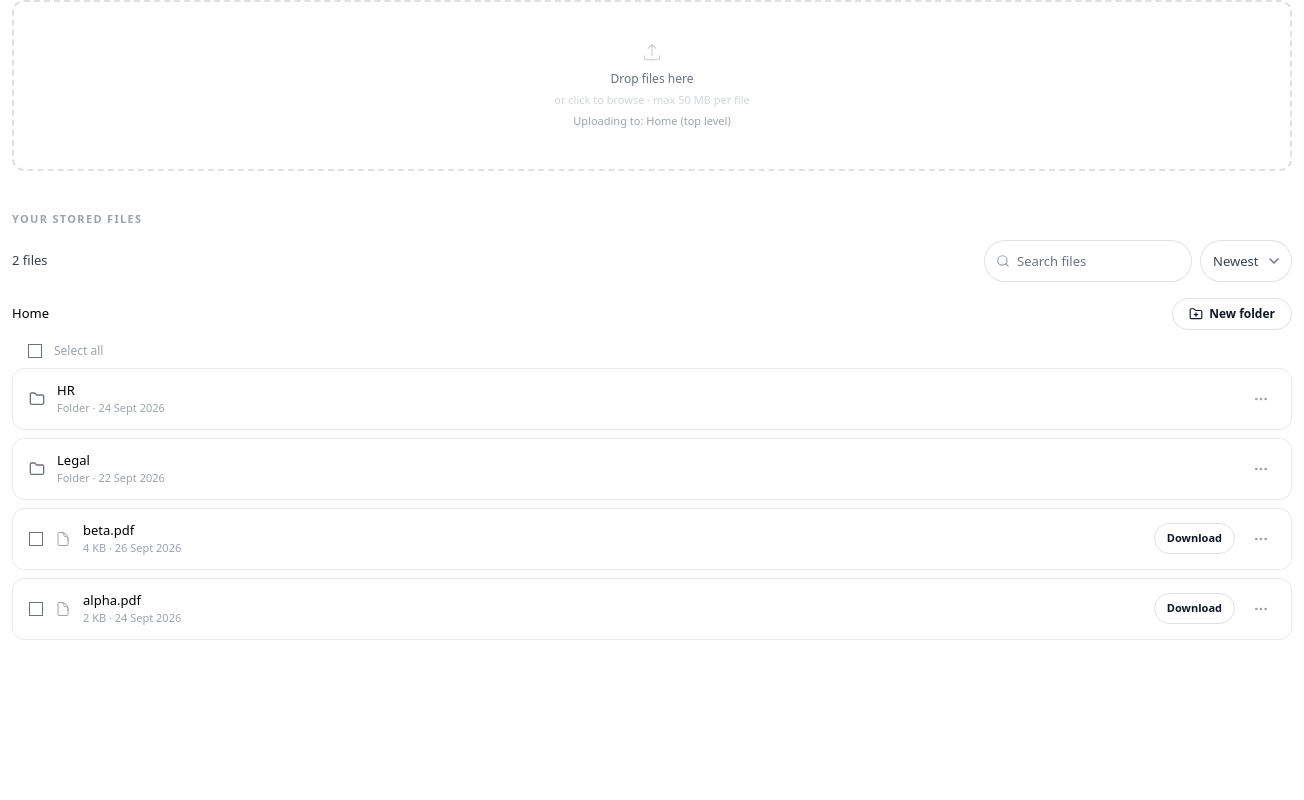
Test: FileBrowser › opens a folder, shows its breadcrumb, and returns home
The width and height of the screenshot is (1304, 800).
Step 1. Click the button with aria-label "Open folder Legal" → [73, 460], box [57, 450, 1235, 486]
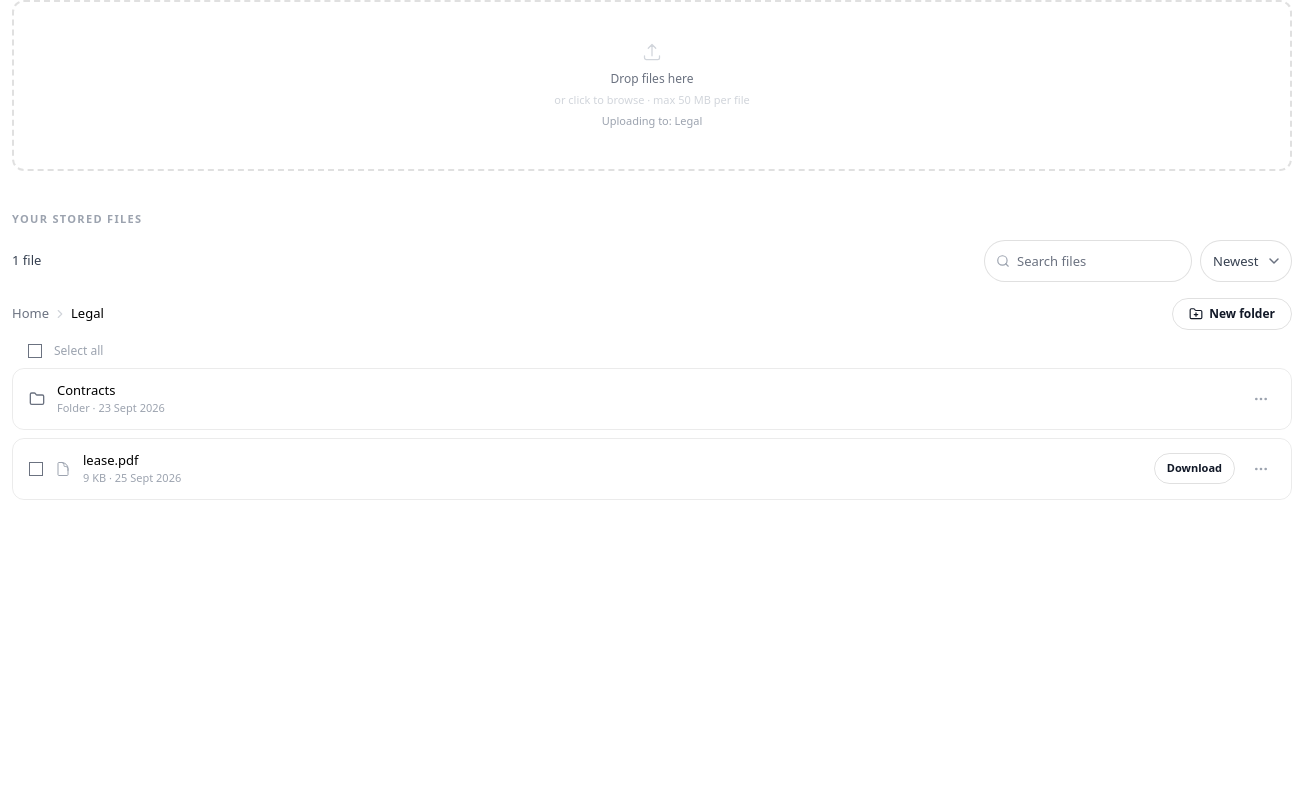
Expected: the text "lease.pdf" is shown, [83, 450, 138, 468]
Expected: the text "alpha.pdf" is gone
Expected: the text "Legal" is shown, [71, 304, 104, 323]
Step 2. Click the button "Home" → [30, 314], box [12, 304, 49, 323]
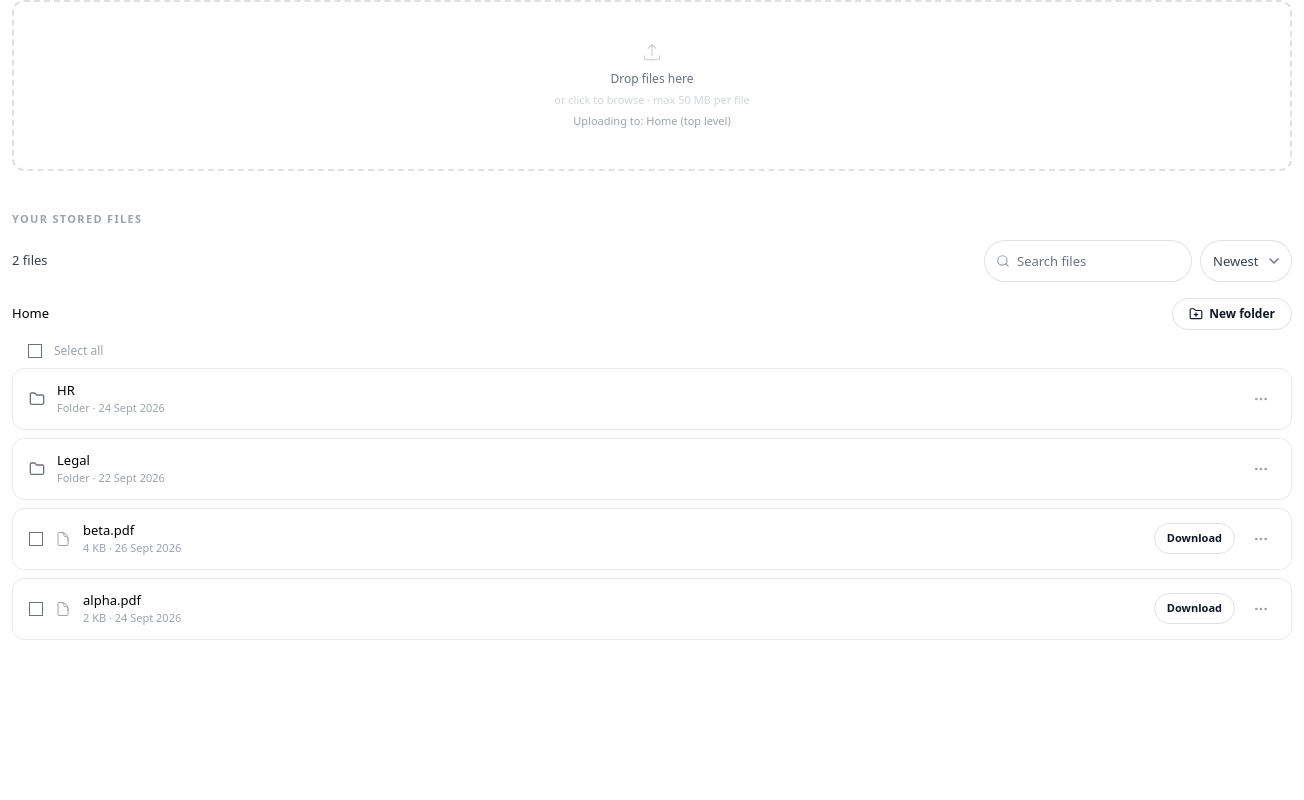
Expected: the text "alpha.pdf" is shown, [83, 590, 141, 608]
